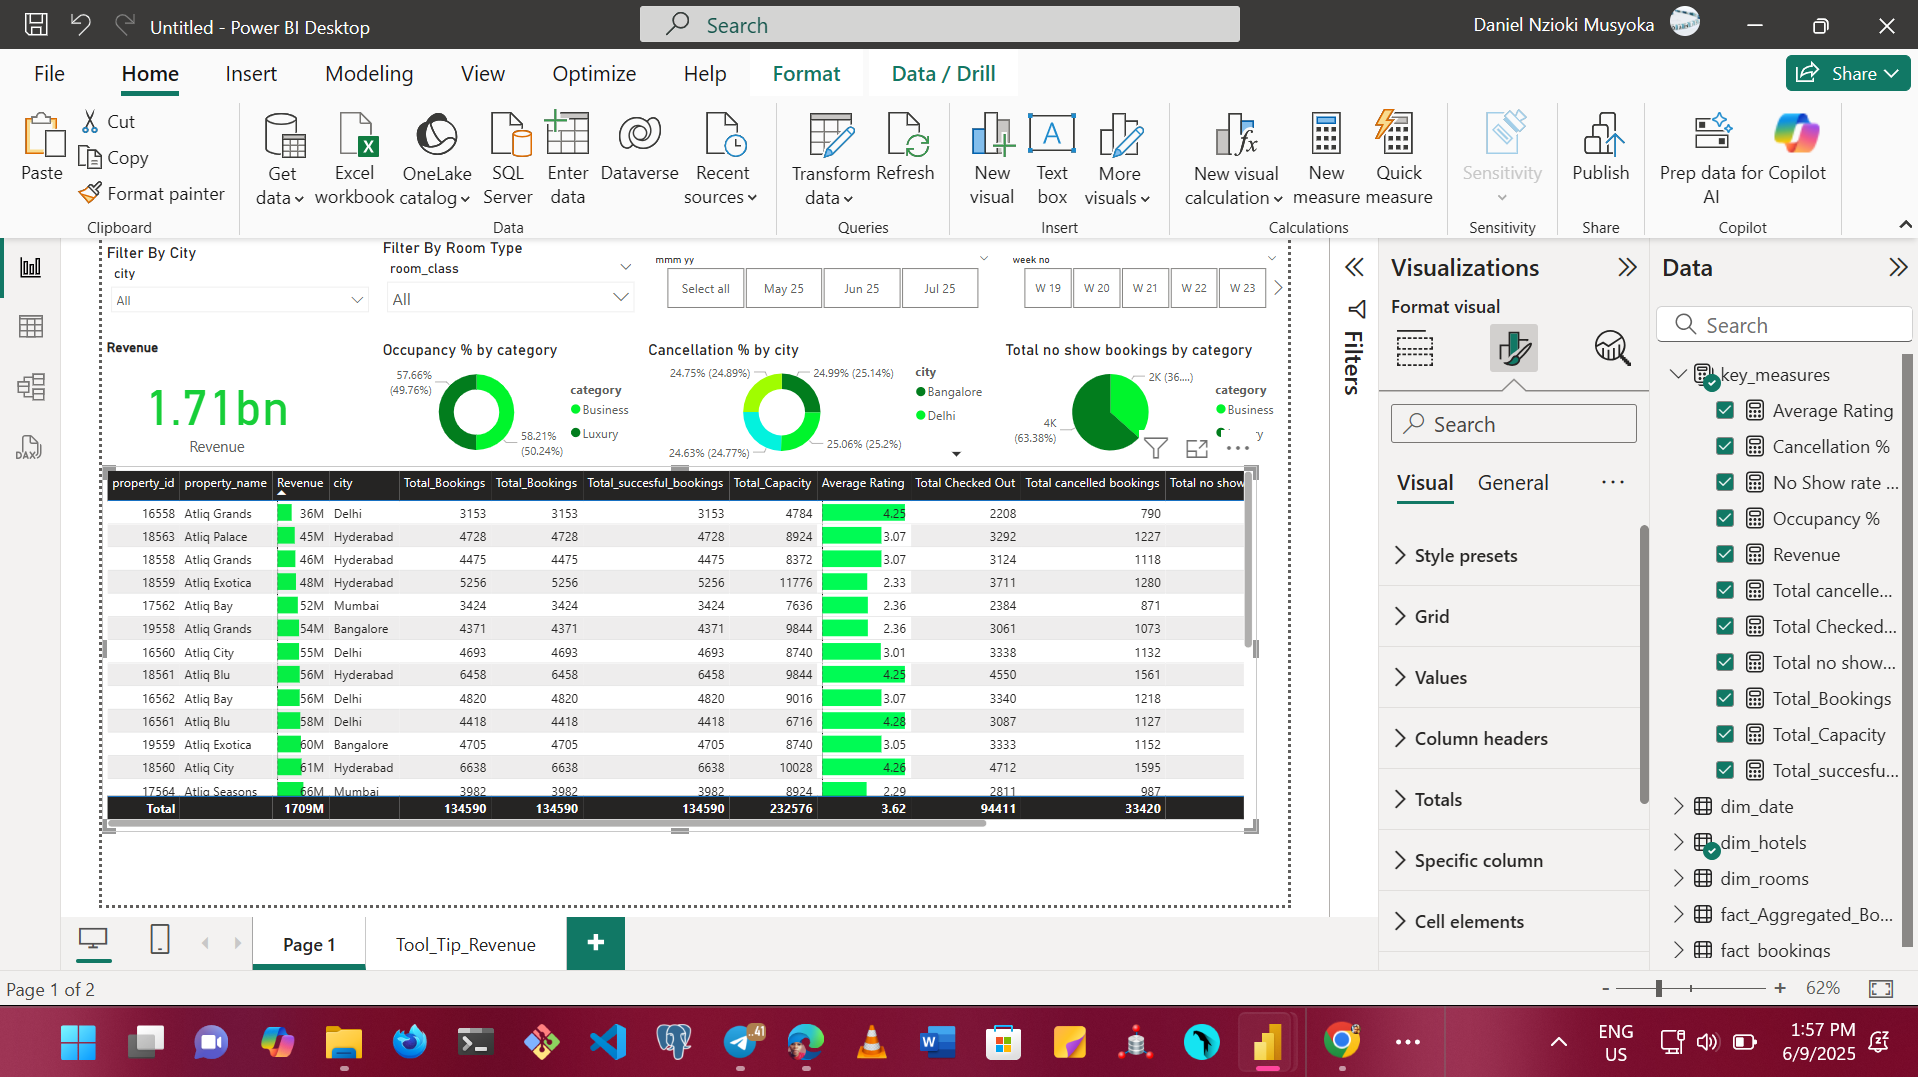

The page's visual inventory and layout, read from the dashboard file:
{"tool":"powerbi","page":{"name":"Page 1","canvas":[1280,720],"ordinal":0},"visuals":[{"type":"tableEx","fields":{"Values":["dim_hotels.property_id","dim_hotels.property_name","key_measures.Revenue","dim_hotels.city","key_measures.Total_Bookings","key_measures.Total_Bookings","key_measures.Total_succesful_bookings","key_measures.Total_Capacity","key_measures.Average Rating","key_measures.Total Checked Out","key_measures.Total cancelled bookings","key_measures.Total no show bookings"]},"box":[357.8,246.1,889,395.1],"z":0},{"type":"slicer","title":"Filter By City","fields":{"Values":["dim_hotels.city"]},"box":[0,0,297.9,82.6],"z":1000},{"type":"slicer","title":"Filter By Room Type","fields":{"Values":["dim_rooms.room_class"]},"box":[297.9,0,286.6,82.6],"z":2000},{"type":"slicer","fields":{"Values":["dim_date.mmm yy"]},"box":[584.5,11.3,385.4,71.2],"z":3000},{"type":"slicer","fields":{"Values":["dim_date.week no"]},"box":[969.9,11.3,310.9,71.2],"z":4000},{"type":"card","title":"Revenue","fields":{"Values":["key_measures.Revenue"]},"box":[0,110.1,247.7,136],"z":5000},{"type":"donutChart","fields":{"Category":["dim_hotels.category"],"Y":["key_measures.Occupancy %"]},"box":[297.9,110.1,286.6,136],"z":6000},{"type":"donutChart","fields":{"Y":["key_measures.Cancellation %"],"Series":["dim_hotels.city"]},"box":[584.5,110.1,385.4,136],"z":7000},{"type":"pieChart","fields":{"Y":["key_measures.Total no show bookings"],"Series":["dim_hotels.category"]},"box":[969.9,110.1,310.9,136],"z":8000},{"type":"areaChart","fields":{"Category":["dim_hotels.property_name"],"Y":["key_measures.Cancellation %"]},"box":[0,246.1,357.8,395.1],"z":9000}]}

Visuals, with their boxes on the page's 1280x720 design canvas (x1, y1, x2, y2). These are canvas units, not pixel positions in the 1918x1077 screenshot, which may show the page scaled, cropped or inside an application window:
tableEx - dim_hotels.property_id x dim_hotels.property_name: rect(358, 246, 1247, 641)
"Filter By City" slicer: rect(0, 0, 298, 83)
"Filter By Room Type" slicer: rect(298, 0, 584, 83)
slicer - dim_date.mmm yy: rect(584, 11, 970, 82)
slicer - dim_date.week no: rect(970, 11, 1281, 82)
"Revenue" card: rect(0, 110, 248, 246)
donutChart - dim_hotels.category x key_measures.Occupancy %: rect(298, 110, 584, 246)
donutChart - key_measures.Cancellation % x dim_hotels.city: rect(584, 110, 970, 246)
pieChart - key_measures.Total no show bookings x dim_hotels.category: rect(970, 110, 1281, 246)
areaChart - dim_hotels.property_name x key_measures.Cancellation %: rect(0, 246, 358, 641)
